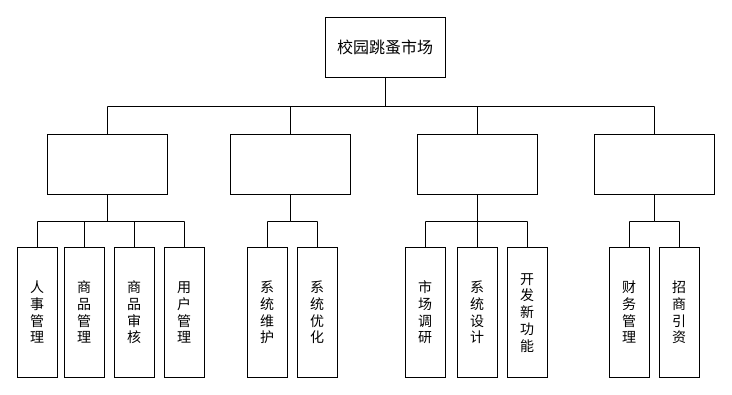
This 732x395 diagram has some shape labels left out. Here are the shapes that lost their labels. From the top down, the centre of each, then its label:
At point (107, 164): "管理部门".
At point (290, 164): "运维部门".
At point (477, 164): "开发部门".
At point (654, 164): "财务部门".
